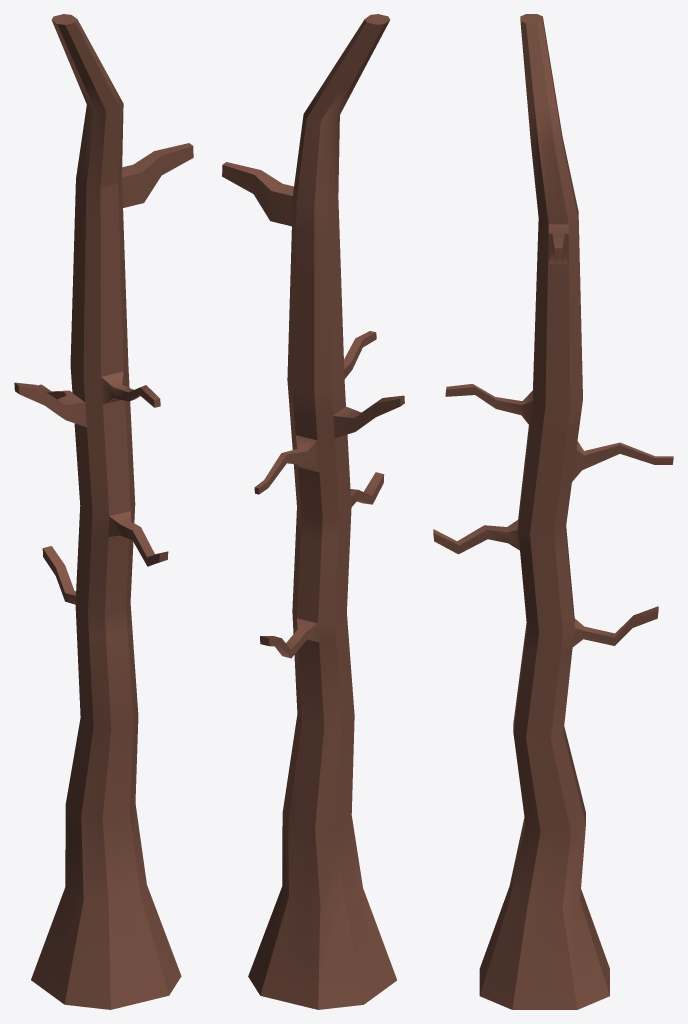
Rendered from tree.fbx.
The picture shows the model from 3 angles, left to right: view 1: azimuth 30°, elevation 25°; view 2: azimuth 150°, elevation 25°; view 3: azimuth 270°, elevation 25°; orthographic projection. The views are drawn at different scales.
Visible parts, largest first — view 1: tree; view 2: tree; view 3: tree.
Boxes of the visible parts, box(x1,y1,x2,y2) form: tree: box(14, 14, 193, 1009); tree: box(222, 14, 404, 1009); tree: box(433, 14, 673, 1009).
Size of the model in its own units: 3.95 by 20.77 by 4.81.
